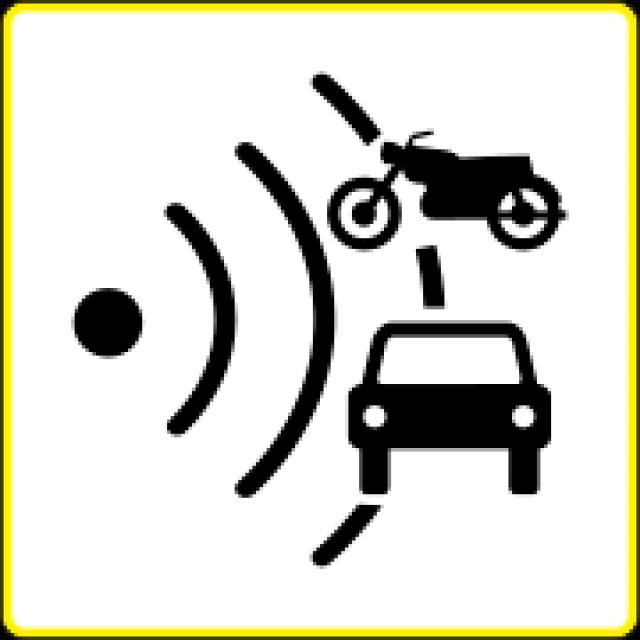radar: (7, 0, 622, 612)
